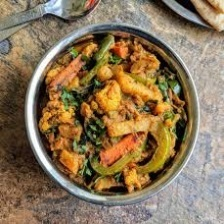sabzi: (28, 28, 195, 201)
